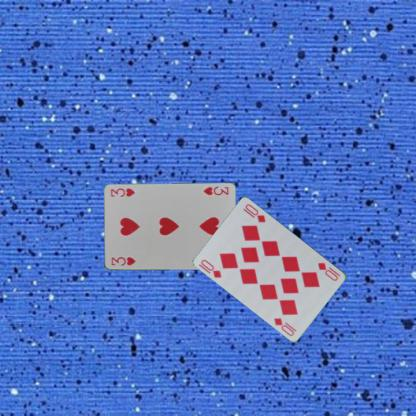10d: (316, 260, 342, 283), (199, 257, 223, 279)
3h: (201, 184, 230, 196), (109, 255, 136, 267)
